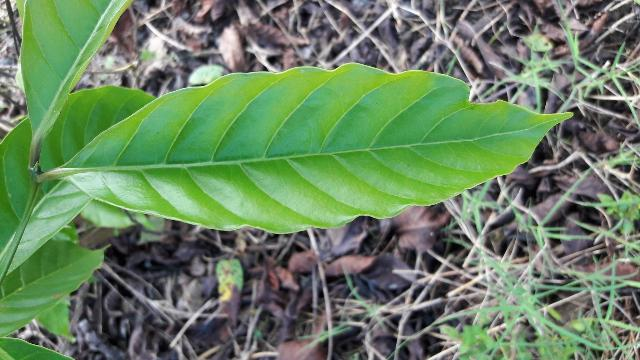healthy: (52, 67, 569, 230)
